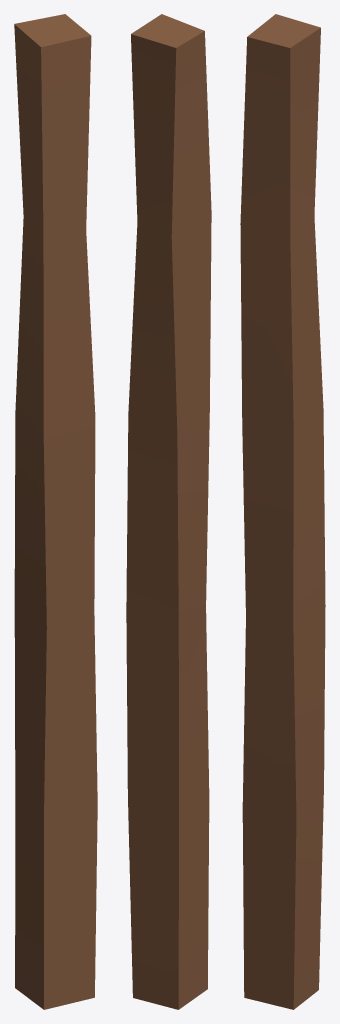
File: WoodColumn2 1.fbx
The picture shows the model from 3 angles, left to right: view 1: azimuth 30°, elevation 25°; view 2: azimuth 150°, elevation 25°; view 3: azimuth 330°, elevation 25°; orthographic projection.
Parts seen in each view (by area): view 1: WoodColumn2; view 2: WoodColumn2; view 3: WoodColumn2.
Boxes of the visible parts, x1=… form: WoodColumn2: x1=14, y1=14, x2=97, y2=1009; WoodColumn2: x1=126, y1=14, x2=211, y2=1009; WoodColumn2: x1=240, y1=14, x2=325, y2=1009.
Bounding box in the file's own units: 12.12 × 201 × 12.17.
